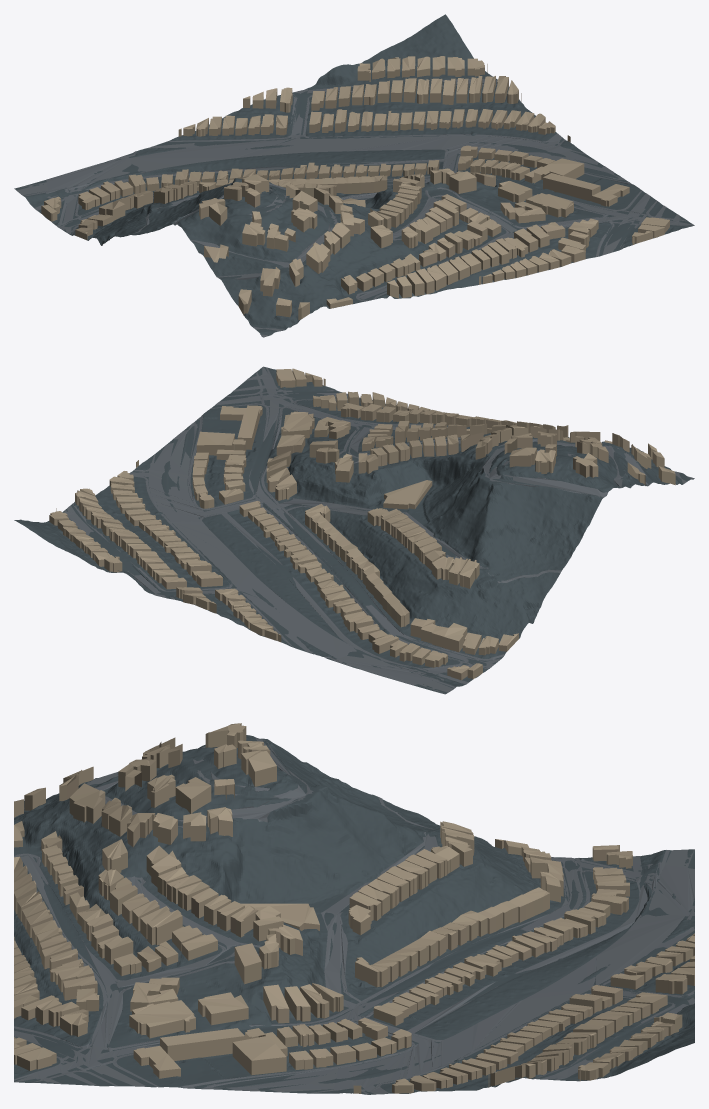
Rendered from epsg26910-1426-10878.lod0.glb.
3 views of the same model, one above another, from view 1: azimuth 30°, elevation 25°; view 2: azimuth 150°, elevation 25°; view 3: azimuth 270°, elevation 25° (orthographic). The views are drawn at different scales.
Visible parts, largest first — view 1: epsg26910-1426-10878-lod0; view 2: epsg26910-1426-10878-lod0; view 3: epsg26910-1426-10878-lod0.
Boxes of the visible parts, <box> form: epsg26910-1426-10878-lod0: <box>14,14,694,337</box>; epsg26910-1426-10878-lod0: <box>14,366,694,694</box>; epsg26910-1426-10878-lod0: <box>14,723,694,1094</box>.
Bounding box in the file's own units: 384 × 96.87 × 384.
